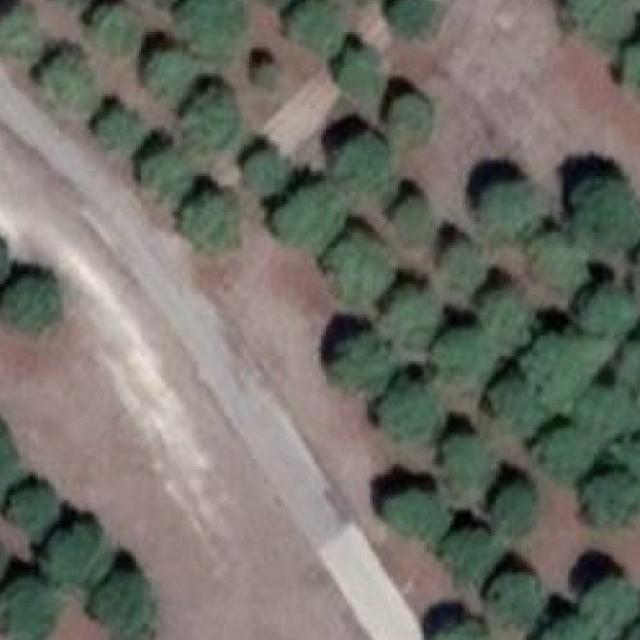Tree: (319, 230, 394, 306), (534, 328, 604, 393), (335, 130, 396, 204), (576, 173, 640, 243), (274, 189, 344, 251), (326, 330, 388, 400), (93, 570, 154, 640), (0, 268, 59, 336), (177, 189, 239, 251), (476, 181, 540, 238), (383, 284, 439, 349), (0, 579, 59, 640), (385, 488, 455, 539), (43, 526, 103, 585), (532, 230, 592, 289), (182, 89, 239, 150), (386, 390, 447, 447), (38, 58, 98, 114), (429, 339, 489, 395), (439, 238, 491, 302), (580, 387, 640, 441), (93, 4, 149, 61), (185, 0, 246, 52), (583, 582, 640, 637), (480, 289, 532, 349), (237, 143, 293, 198), (489, 572, 543, 627), (444, 528, 494, 587), (336, 50, 386, 107), (588, 472, 638, 529), (146, 52, 203, 99), (0, 4, 43, 66), (7, 488, 59, 539), (586, 284, 640, 333), (496, 380, 552, 426), (290, 0, 341, 50), (141, 142, 192, 191), (383, 94, 432, 145), (491, 488, 537, 542), (450, 438, 490, 500), (391, 191, 435, 246), (388, 0, 447, 40), (540, 436, 592, 481), (566, 0, 628, 35), (0, 423, 26, 495), (97, 104, 136, 145), (432, 618, 494, 640), (534, 620, 601, 640), (621, 36, 640, 101), (254, 60, 285, 88), (629, 431, 640, 492), (632, 332, 640, 402)
